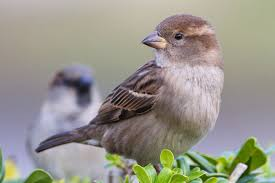hsparrow: (31, 10, 232, 177)
